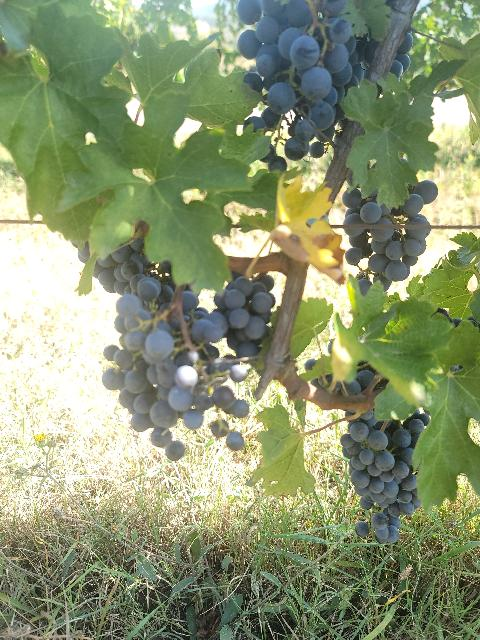grapes: (116, 260, 249, 429), (236, 0, 365, 160), (340, 410, 429, 544), (342, 180, 438, 290), (205, 276, 275, 358)
